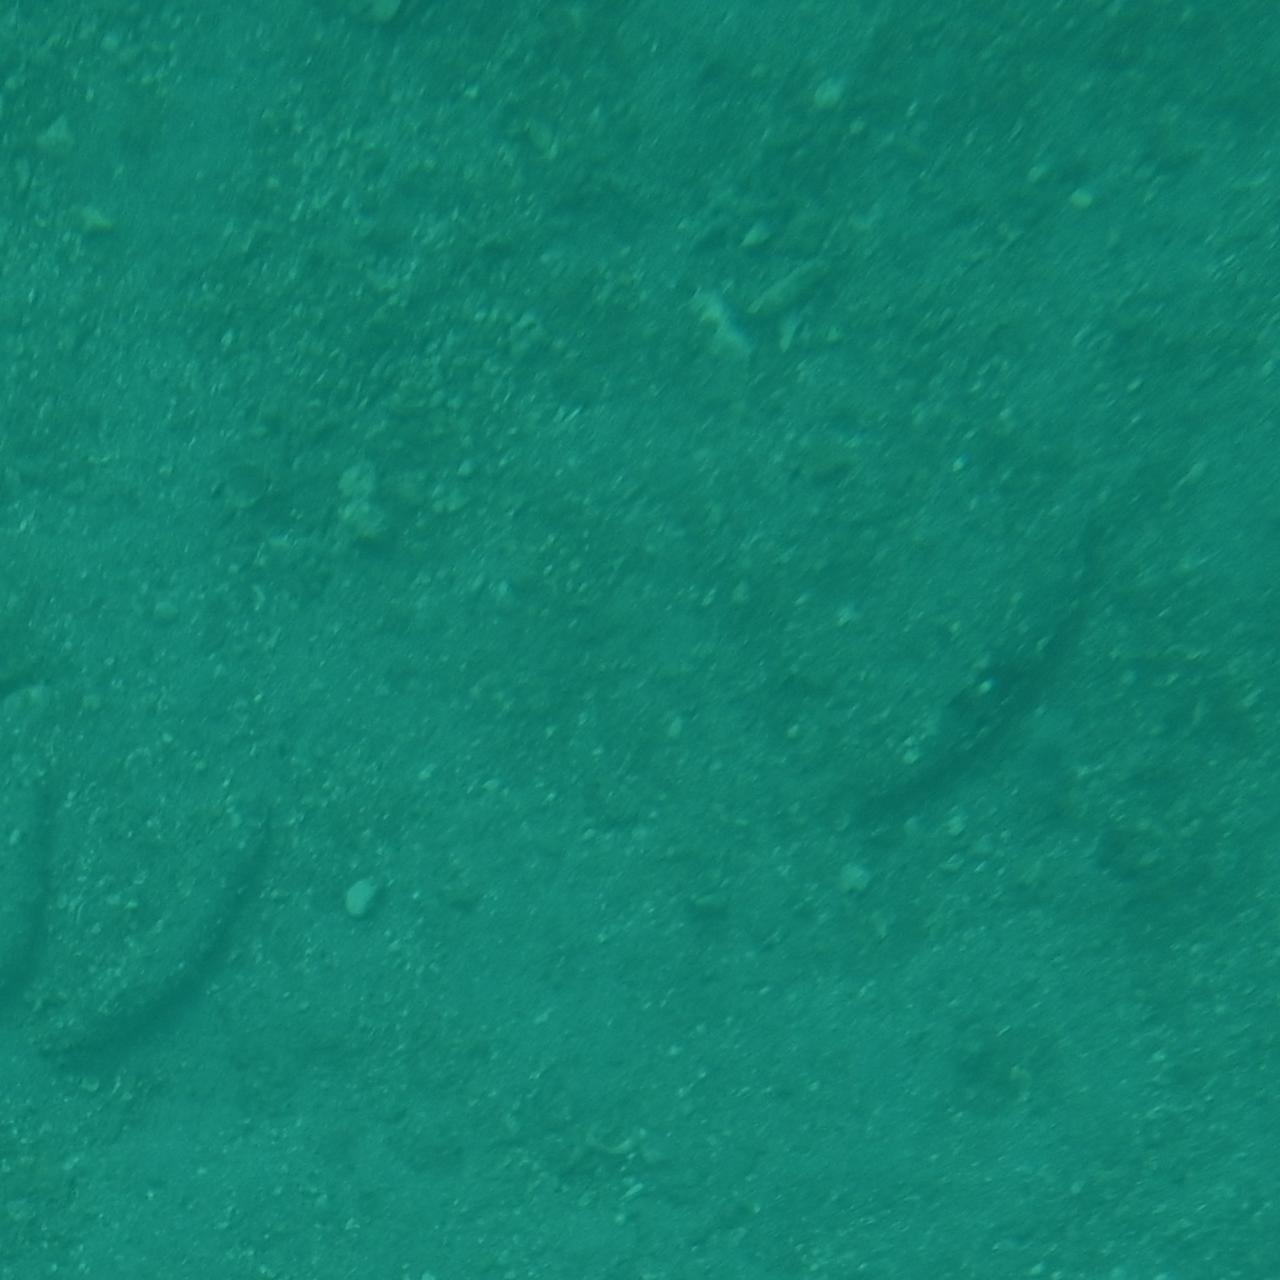Holothuria tubulosa: (867, 502, 1117, 824), (64, 795, 295, 1071), (0, 5, 161, 284), (0, 749, 103, 1061), (1212, 406, 1280, 795), (0, 958, 82, 1280)
